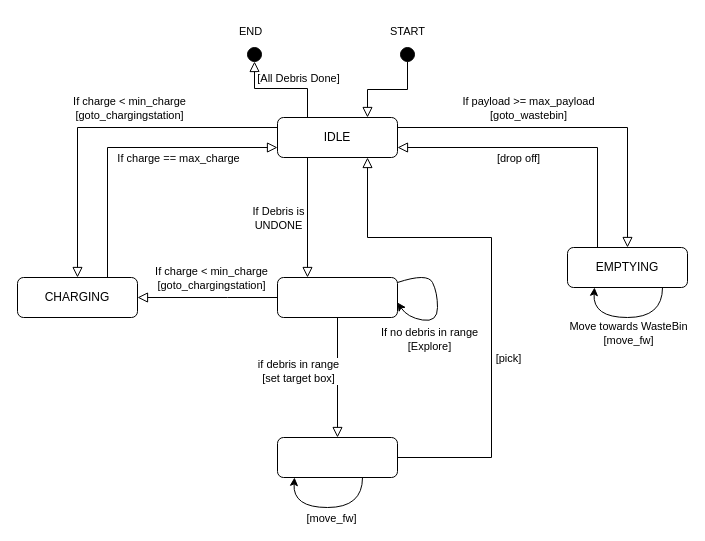
This 705x541 diagram has some shape labels left out. The shapes that lost their labels are listed below. From the top down, each one's box as (x1, y1, x2, y2) in pixels, then its label:
(276, 276, 398, 318): EXPLORING
(276, 436, 398, 478): PICKING
